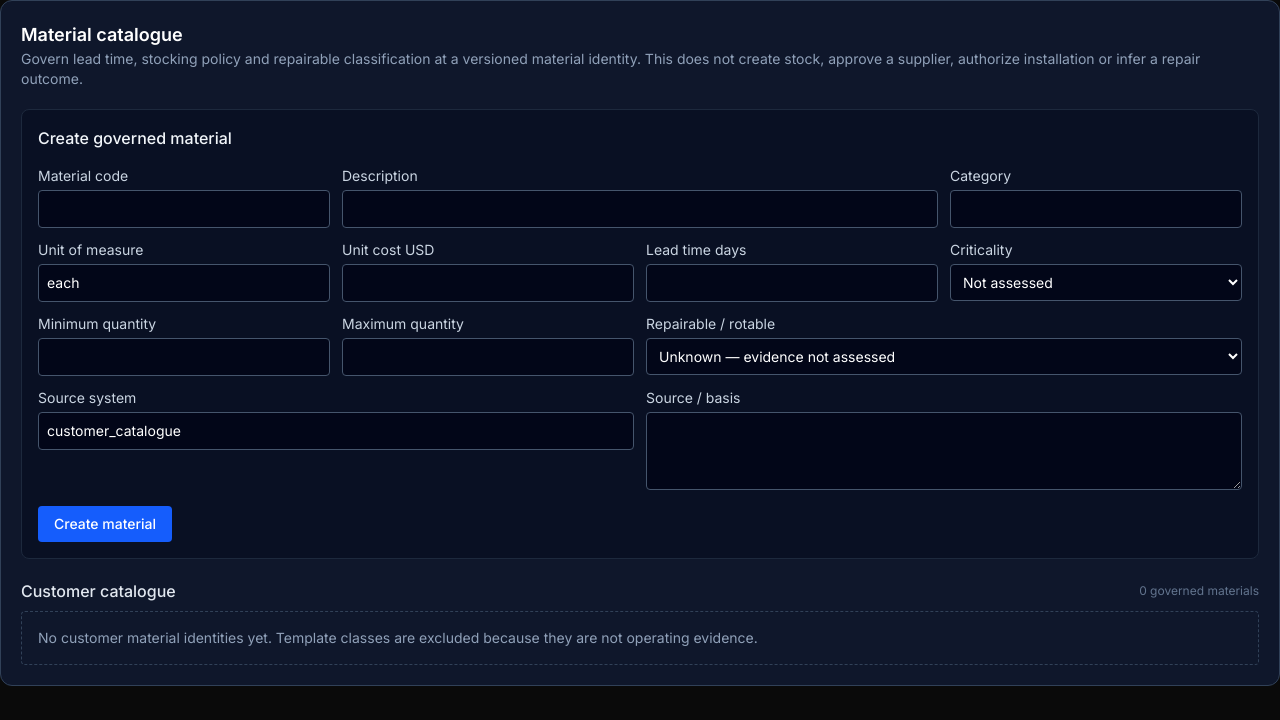
Test: MaterialCatalogue › submits the complete human-entered policy without creating stock or approval
The width and height of the screenshot is (1280, 720).
Expected: the text "0 governed materials" is shown, [1139,583,1259,599]
Type "SEAL-1" into the field labelled "Material code".
click(184, 209); type("SEAL-1")  # box [38,190,330,228]
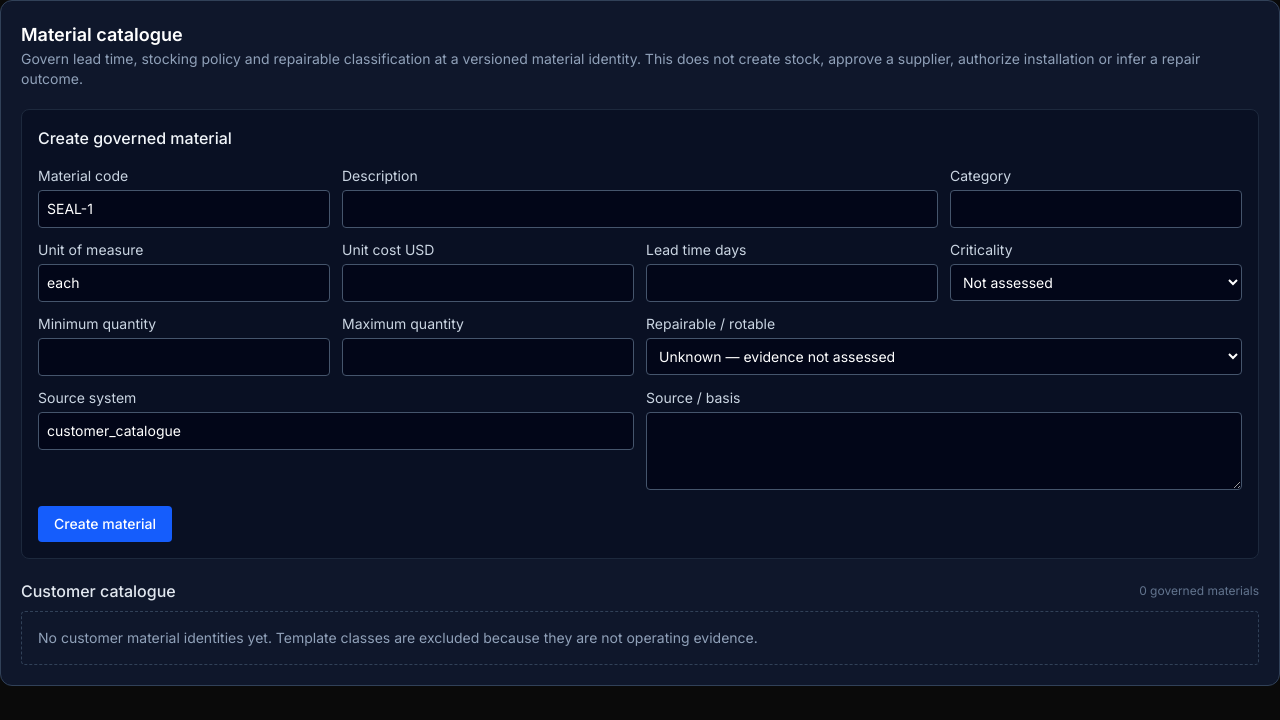
Type "Seal" into the field labelled "Description".
click(640, 209); type("Seal")  # box [342,190,938,228]
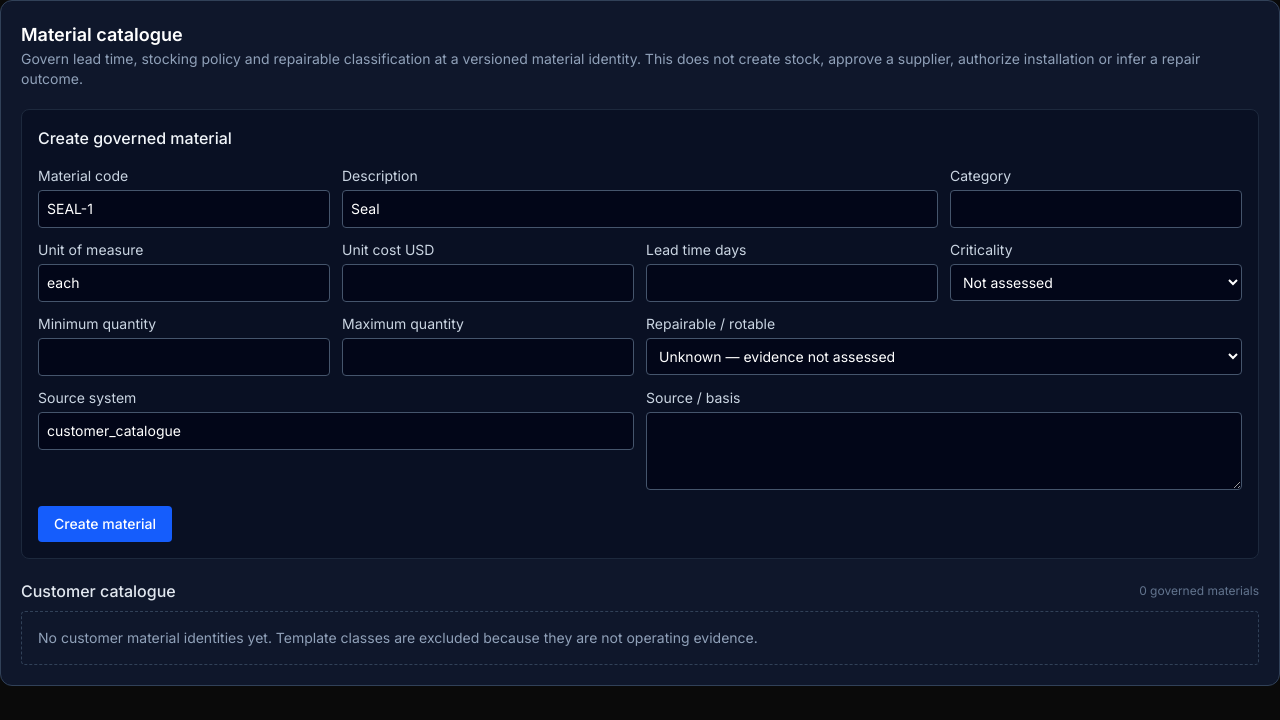
Type "21" into the number field labelled "Lead time days".
click(792, 283); type("21")  # box [646,264,938,302]
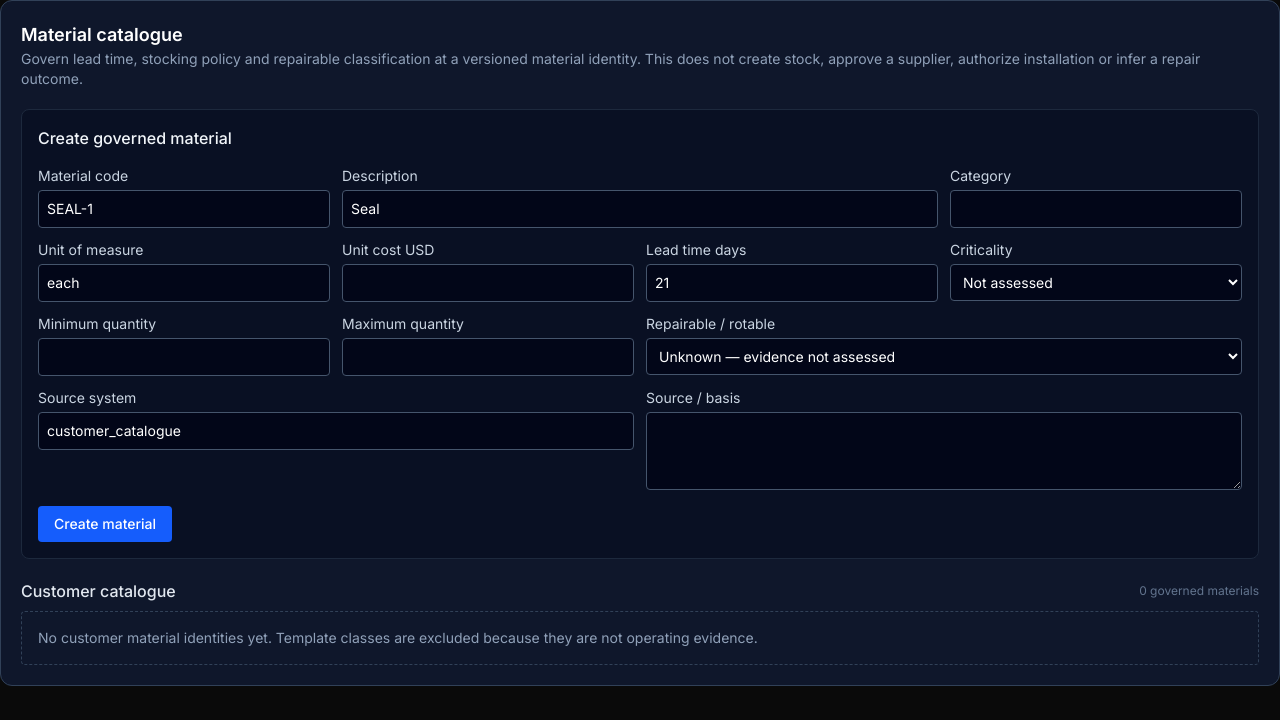
Select "Consumable" in the dropdown labelled "Repairable / rotable" at (944, 356), box [646,338,1242,375]
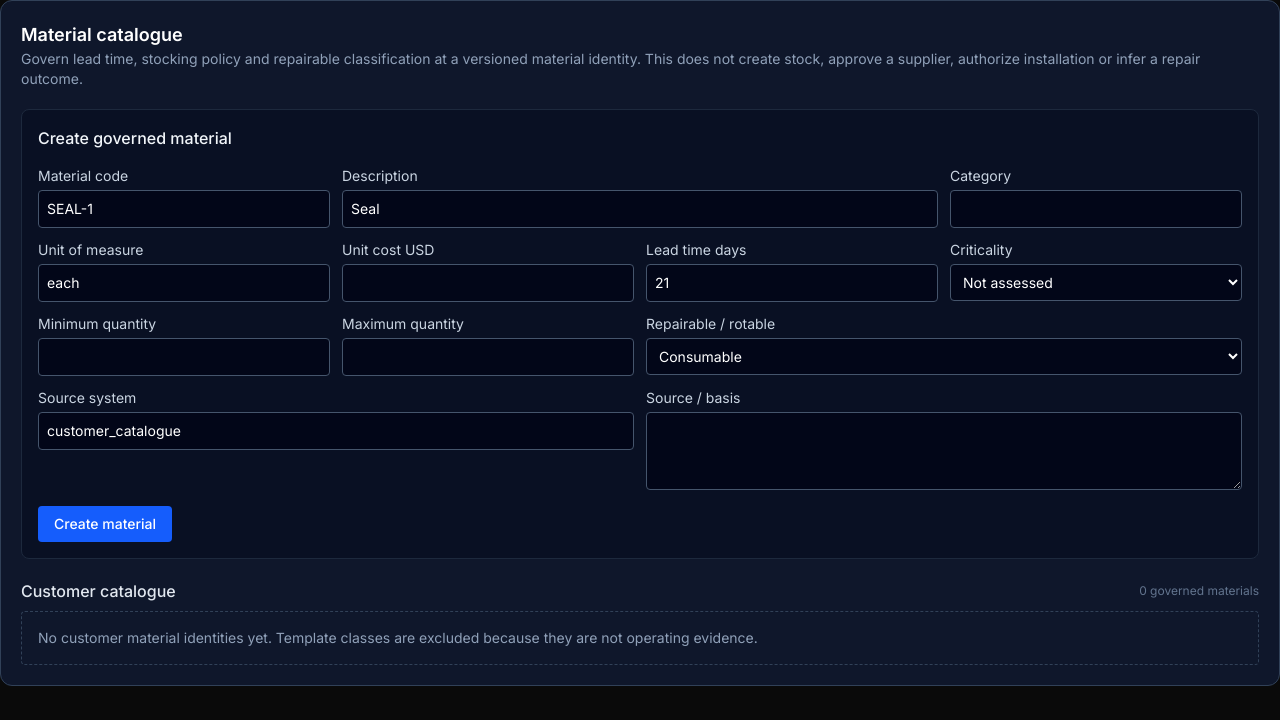
Type "Approved catalogue page four source." into the text box labelled "Source / basis".
click(944, 451); type("Approved catalogue page four source.")  # box [646,412,1242,490]
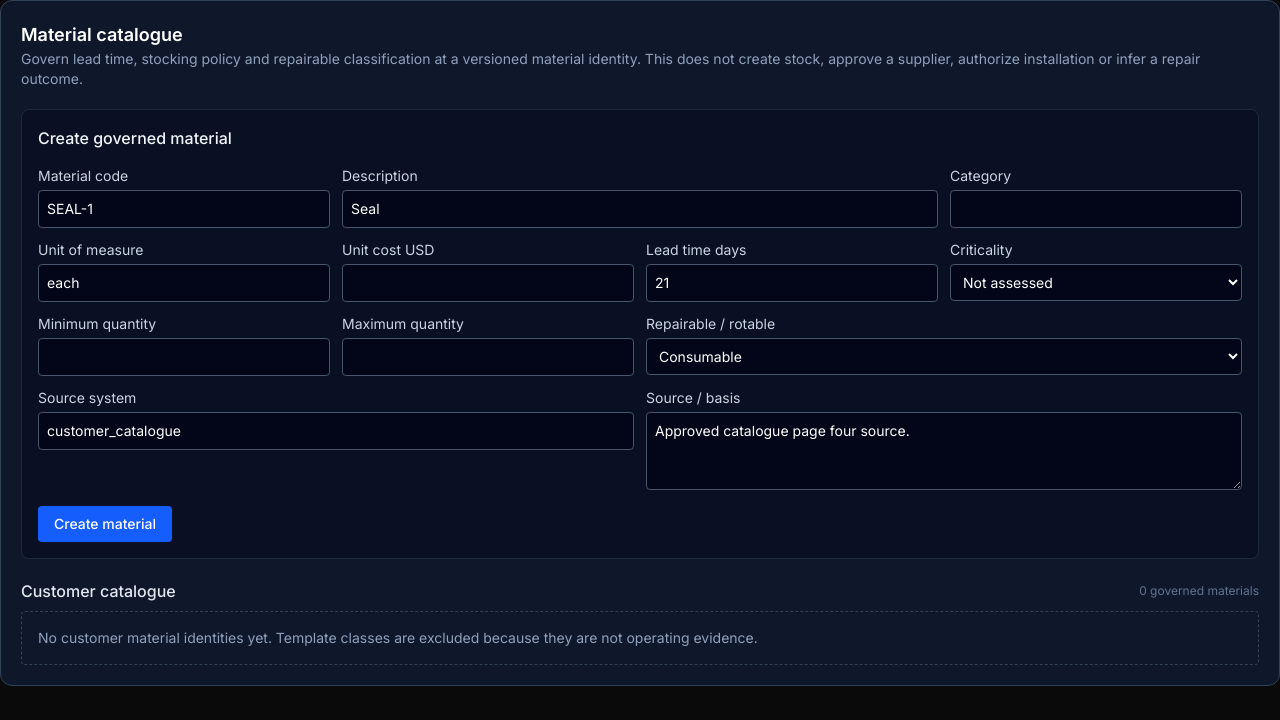
Click the button "Create material".
click(105, 524)  # box [38,506,172,542]
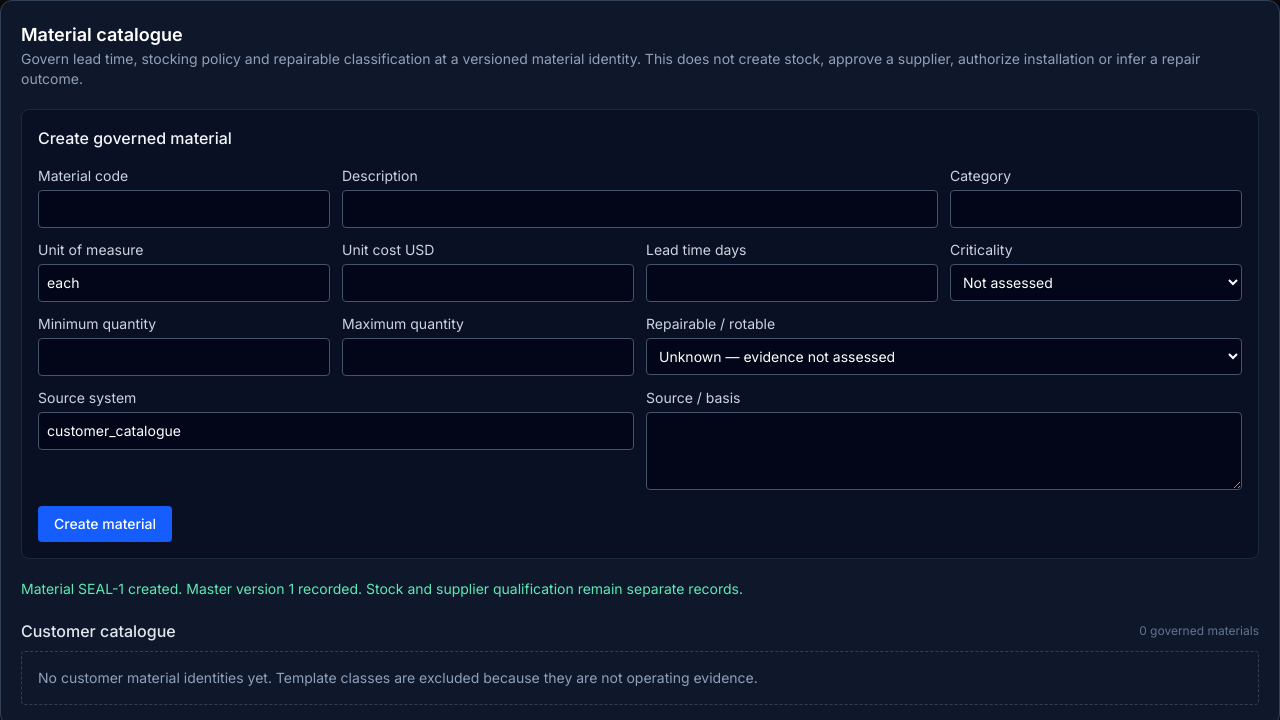
Now the message is shown, box [21,580,743,597]
Now the message shows "Material SEAL-1 created. Master version 1 recorded.", box [21,580,362,597]
Now the message shows "Stock and supplier qualification remain separate", box [362,580,743,597]
